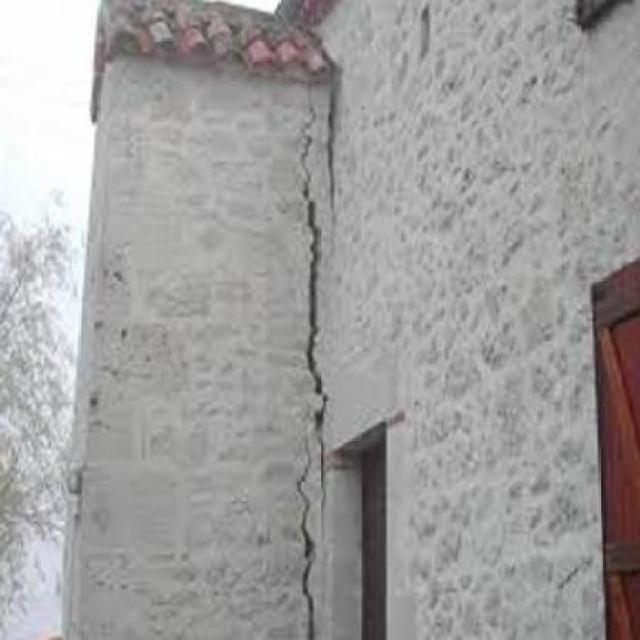Crack: (287, 71, 339, 640)
